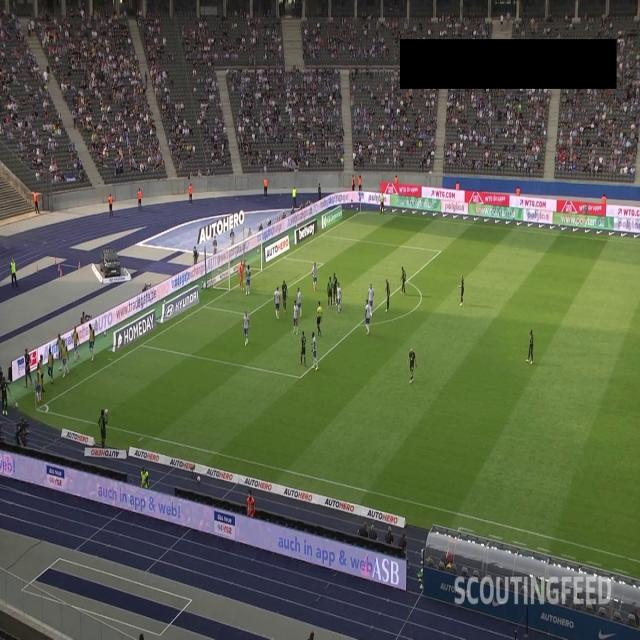ball: (104, 405, 109, 417)
player: (408, 346, 417, 384), (310, 330, 318, 371), (242, 309, 250, 348), (99, 408, 107, 446), (526, 328, 534, 365), (384, 276, 392, 311), (237, 258, 246, 288), (365, 298, 372, 335), (273, 286, 281, 317), (368, 283, 375, 316), (300, 328, 306, 366), (282, 280, 288, 316), (293, 300, 299, 334), (332, 270, 338, 304), (245, 263, 251, 294), (459, 274, 465, 304), (313, 260, 318, 290), (337, 282, 342, 312), (401, 264, 406, 292), (328, 276, 333, 303)
